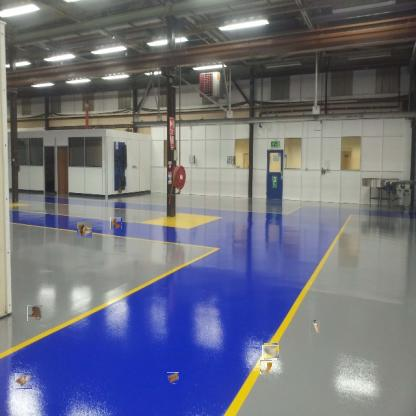dirty: (15, 372, 32, 390), (78, 222, 93, 238), (263, 344, 278, 359), (310, 319, 320, 333), (110, 218, 122, 229), (168, 372, 179, 384)
liquid: (27, 305, 42, 321), (260, 360, 272, 374)
